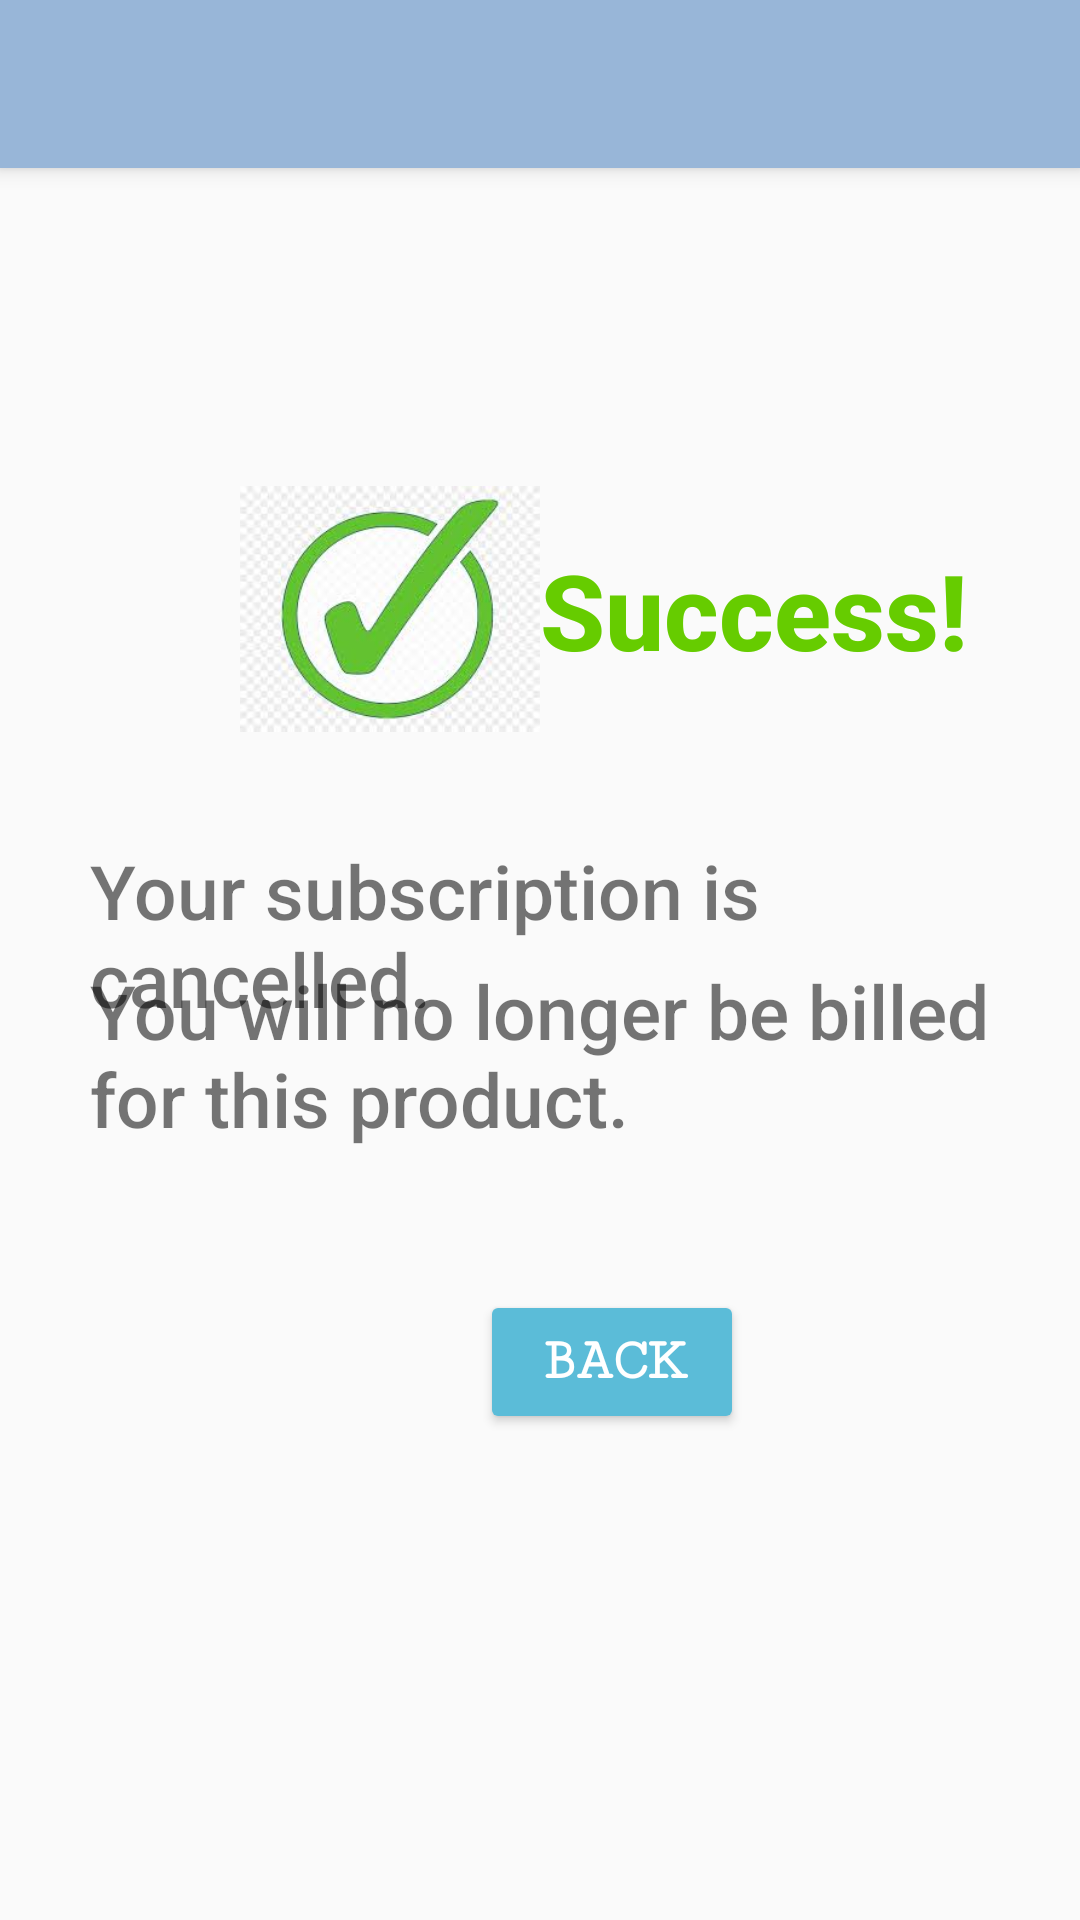

Icon bounding boxes for this 1080w x 1920h phone screenshot, format box(x1, y1, x2, y2):
checkmark: box(279, 489, 511, 720)
